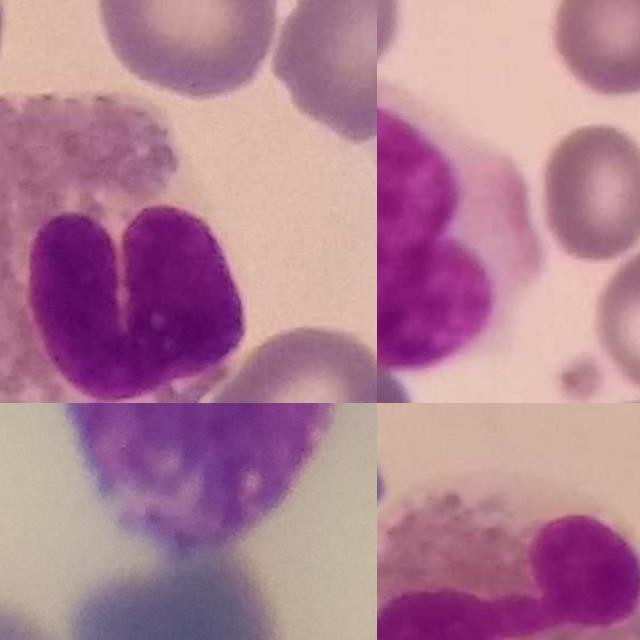Basophil: (58, 403, 342, 554)
Eosinophil: (0, 93, 249, 403), (377, 468, 640, 640)
Monocyte: (377, 82, 544, 369)
